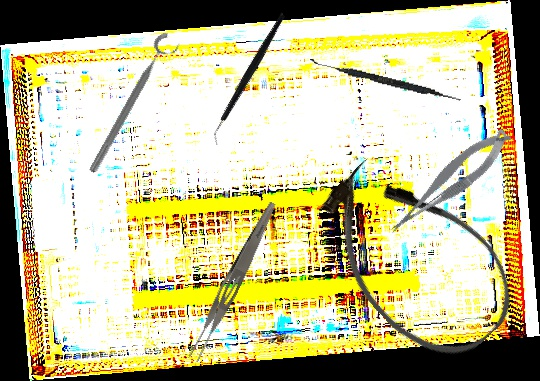Cannula: (296, 137, 535, 380)
Chopper: (177, 11, 322, 147)
Dressing Forceps: (184, 197, 280, 365)
Fixation Ring: (84, 29, 184, 181)
Micro Scissor: (376, 122, 522, 240)
Spatula Surgical: (307, 58, 463, 103)
